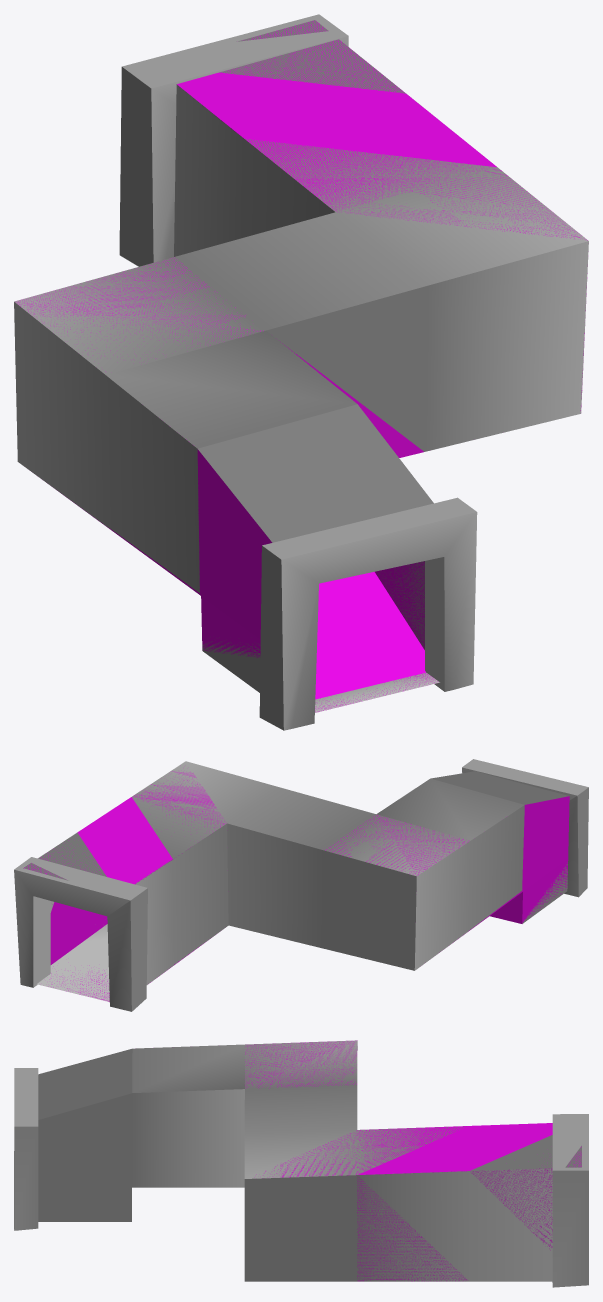
Rendered from office_connector2.fbx.
The picture shows the model from 3 angles, top to bottom: view 1: azimuth 30°, elevation 25°; view 2: azimuth 150°, elevation 25°; view 3: azimuth 270°, elevation 25°; orthographic projection. The views are drawn at different scales.
Parts seen in each view (by area): view 1: wall, polySurface1, DoorFrame_Connector1, DoorFrame_Connector2, stair_collsion, floor; view 2: wall, polySurface1, DoorFrame_Connector2, DoorFrame_Connector1, floor; view 3: wall, polySurface1, DoorFrame_Connector2, DoorFrame_Connector1.
Part boxes in pixels (left/top/right/bottom): wall: left=14, top=20, right=588, bottom=692; polySurface1: left=15, top=20, right=587, bottom=657; DoorFrame_Connector1: left=259, top=497, right=477, bottom=730; DoorFrame_Connector2: left=119, top=14, right=348, bottom=266; stair_collsion: left=315, top=572, right=425, bottom=699; floor: left=315, top=672, right=439, bottom=712; wall: left=23, top=761, right=568, bottom=984; polySurface1: left=24, top=771, right=569, bottom=982; DoorFrame_Connector2: left=14, top=857, right=147, bottom=1011; DoorFrame_Connector1: left=462, top=759, right=588, bottom=897; floor: left=37, top=924, right=109, bottom=1001; wall: left=38, top=1040, right=581, bottom=1281; polySurface1: left=245, top=1040, right=581, bottom=1281; DoorFrame_Connector2: left=552, top=1114, right=588, bottom=1287; DoorFrame_Connector1: left=14, top=1068, right=38, bottom=1230.
Size of what is drawn, in the model's own units: 47.99 by 22.79 by 76.61.
